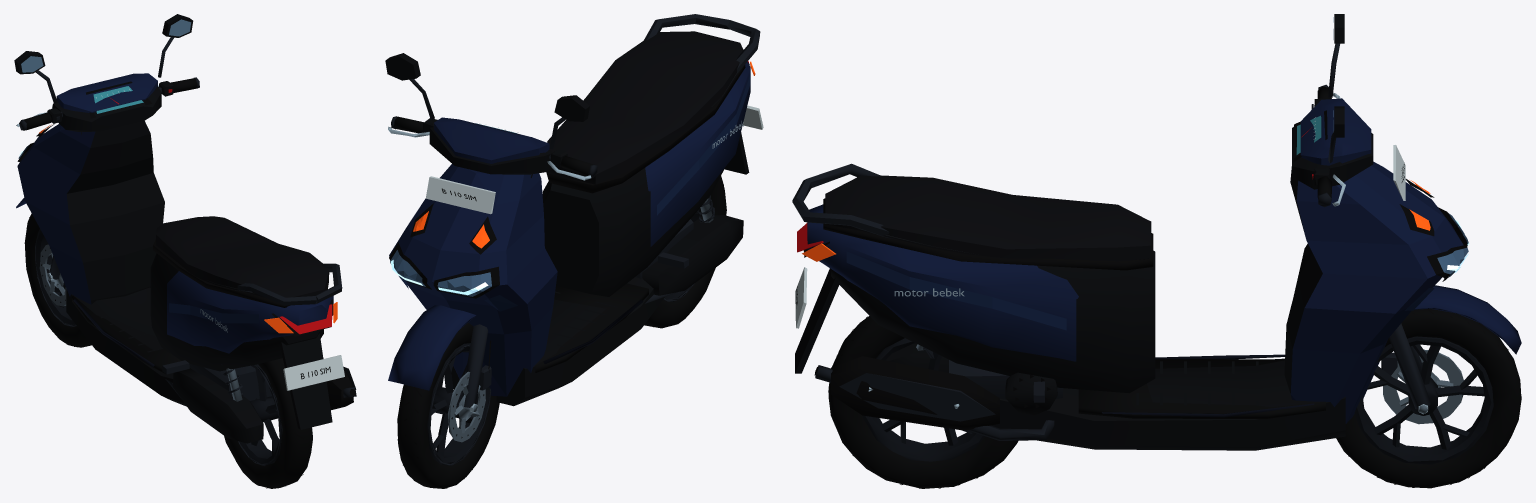
Rendered from Body_LOD1.fbx.
3 views of the same model, side by side, from view 1: azimuth 30°, elevation 25°; view 2: azimuth 150°, elevation 25°; view 3: azimuth 270°, elevation 25° (orthographic). The views are drawn at different scales.
Parts seen in each view (by area): view 1: Body_Mesh, Steering_Pivot_Mesh, Rear_Wheel_Pivot_Mesh, Front_Wheel_Pivot_Mesh, Brake_Light_Mesh; view 2: Body_Mesh, Steering_Pivot_Mesh, Front_Wheel_Pivot_Mesh, Rear_Wheel_Pivot_Mesh, Headlight_Mesh; view 3: Body_Mesh, Front_Wheel_Pivot_Mesh, Steering_Pivot_Mesh, Rear_Wheel_Pivot_Mesh.
Part boxes in pixels (x1,y1,x2,y2): Body_Mesh: (17, 104, 356, 443); Steering_Pivot_Mesh: (14, 14, 199, 280); Rear_Wheel_Pivot_Mesh: (224, 358, 312, 488); Front_Wheel_Pivot_Mesh: (24, 213, 91, 347); Brake_Light_Mesh: (279, 304, 332, 334); Body_Mesh: (389, 14, 763, 406); Steering_Pivot_Mesh: (385, 53, 597, 412); Front_Wheel_Pivot_Mesh: (397, 322, 499, 488); Rear_Wheel_Pivot_Mesh: (644, 176, 726, 328); Headlight_Mesh: (390, 250, 491, 296); Body_Mesh: (792, 145, 1467, 450); Front_Wheel_Pivot_Mesh: (1336, 308, 1521, 488); Steering_Pivot_Mesh: (1292, 14, 1521, 414); Rear_Wheel_Pivot_Mesh: (828, 316, 1018, 488).
Size of the model in its own units: 67.06 by 119 by 186.
